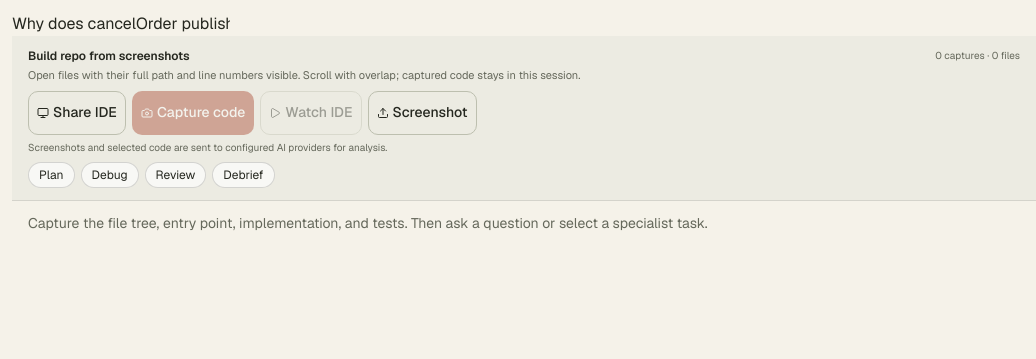
Scenario: clearing the session cancels active analysis and removes partial answer state
Click the button "plan": (51, 175) [28,162,74,188]
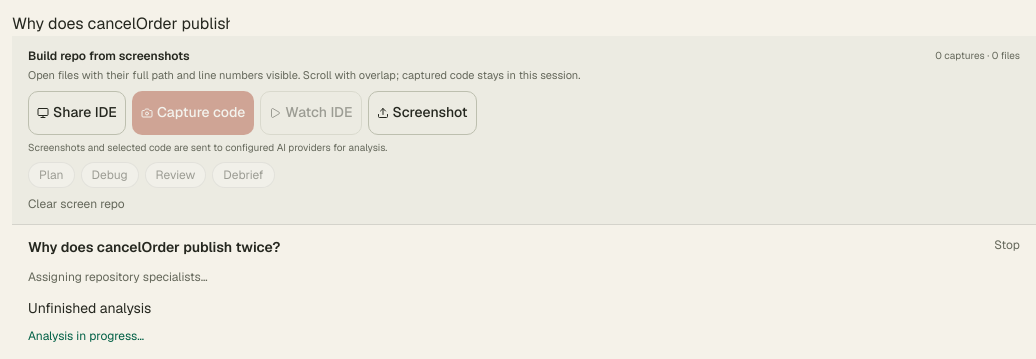
Result: the text "Unfinished analysis" is shown at [28,299,151,317]
Click the button "Clear screen repo": (76, 204) [28,196,125,212]
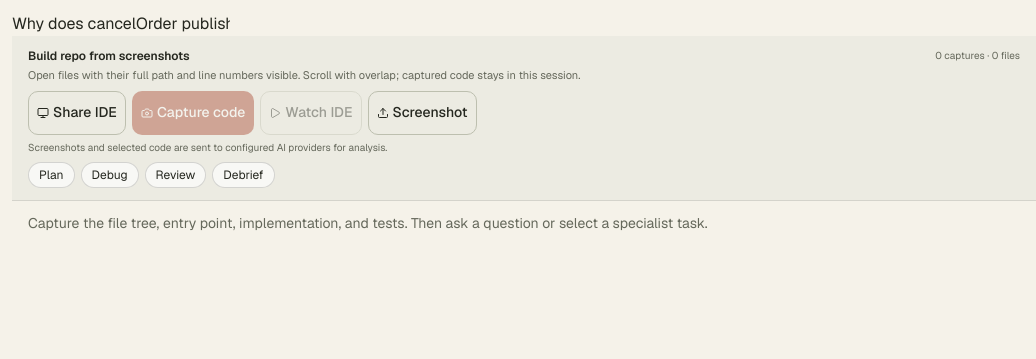
Result: the text "Unfinished analysis" is gone
Result: the button "plan" is enabled at [28,162,74,188]
